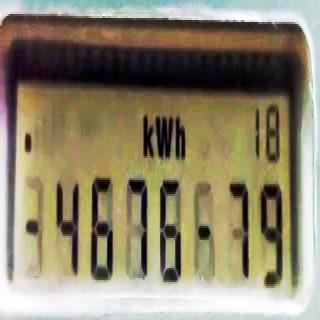-: (196, 210, 212, 251), (25, 208, 38, 241), (24, 130, 32, 156)
1: (255, 102, 261, 164)
4: (55, 173, 82, 284)
6: (89, 170, 115, 290), (159, 172, 183, 289)
7: (228, 170, 252, 287), (127, 167, 150, 285)
8: (265, 100, 282, 166)
9: (257, 175, 286, 294)
